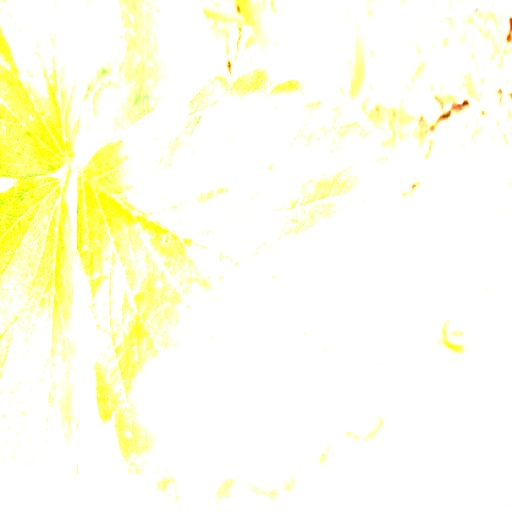Leaf Spot: (75, 65, 446, 511), (0, 177, 100, 511)
